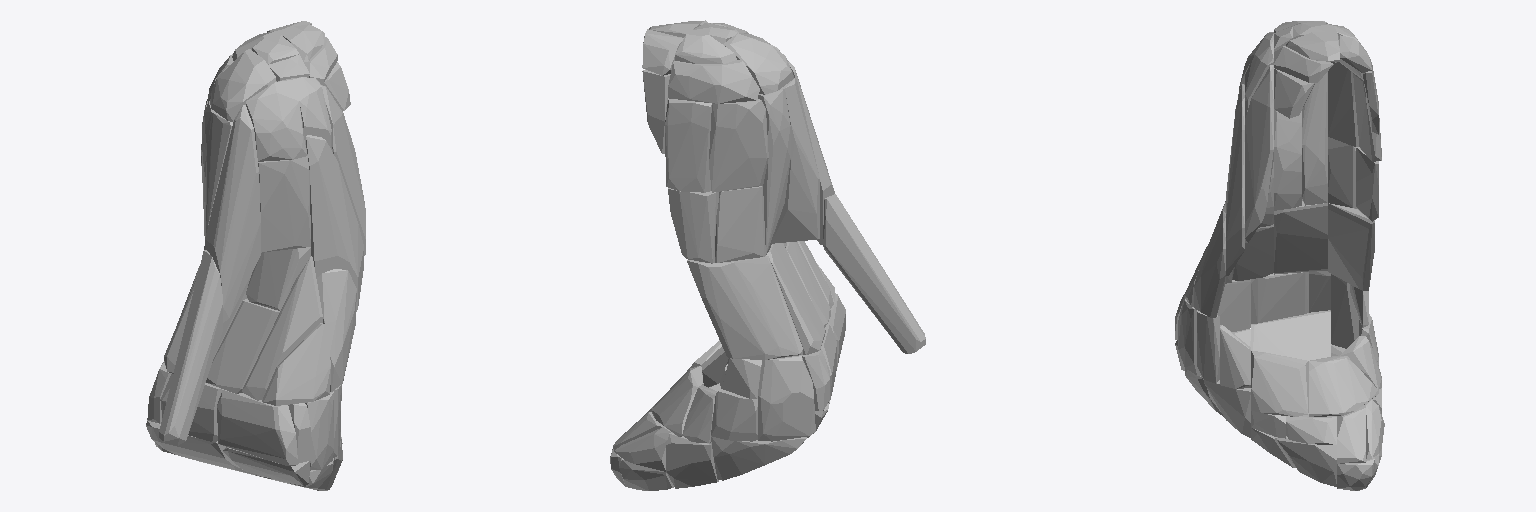
--- Render facts (derived) ---
3 views of the same robot in one strip: view 1: azimuth 30°, elevation 25°; view 2: azimuth 150°, elevation 25°; view 3: azimuth 270°, elevation 25° (orthographic).
Robot: root — 60 links, 59 joints (59 fixed); root link link_4fcd289d3e82bb08588f04a271bfa5eb_convex_piece_0; default pose: every joint at zero.
Visible links, largest first — view 1: link_4fcd289d3e82bb08588f04a271bfa5eb_convex_piece_37, link_4fcd289d3e82bb08588f04a271bfa5eb_convex_piece_0, link_4fcd289d3e82bb08588f04a271bfa5eb_convex_piece_4, link_4fcd289d3e82bb08588f04a271bfa5eb_convex_piece_57, link_4fcd289d3e82bb08588f04a271bfa5eb_convex_piece_9, link_4fcd289d3e82bb08588f04a271bfa5eb_convex_piece_17, link_4fcd289d3e82bb08588f04a271bfa5eb_convex_piece_58, link_4fcd289d3e82bb08588f04a271bfa5eb_convex_piece_18, link_4fcd289d3e82bb08588f04a271bfa5eb_convex_piece_16, link_4fcd289d3e82bb08588f04a271bfa5eb_convex_piece_3, link_4fcd289d3e82bb08588f04a271bfa5eb_convex_piece_20, link_4fcd289d3e82bb08588f04a271bfa5eb_convex_piece_50 (+16 smaller); view 2: link_4fcd289d3e82bb08588f04a271bfa5eb_convex_piece_21, link_4fcd289d3e82bb08588f04a271bfa5eb_convex_piece_0, link_4fcd289d3e82bb08588f04a271bfa5eb_convex_piece_44, link_4fcd289d3e82bb08588f04a271bfa5eb_convex_piece_30, link_4fcd289d3e82bb08588f04a271bfa5eb_convex_piece_38, link_4fcd289d3e82bb08588f04a271bfa5eb_convex_piece_45, link_4fcd289d3e82bb08588f04a271bfa5eb_convex_piece_42, link_4fcd289d3e82bb08588f04a271bfa5eb_convex_piece_46, link_4fcd289d3e82bb08588f04a271bfa5eb_convex_piece_39, link_4fcd289d3e82bb08588f04a271bfa5eb_convex_piece_43, link_4fcd289d3e82bb08588f04a271bfa5eb_convex_piece_19, link_4fcd289d3e82bb08588f04a271bfa5eb_convex_piece_15 (+19 smaller); view 3: link_4fcd289d3e82bb08588f04a271bfa5eb_convex_piece_6, link_4fcd289d3e82bb08588f04a271bfa5eb_convex_piece_19, link_4fcd289d3e82bb08588f04a271bfa5eb_convex_piece_35, link_4fcd289d3e82bb08588f04a271bfa5eb_convex_piece_21, link_4fcd289d3e82bb08588f04a271bfa5eb_convex_piece_34, link_4fcd289d3e82bb08588f04a271bfa5eb_convex_piece_14, link_4fcd289d3e82bb08588f04a271bfa5eb_convex_piece_39, link_4fcd289d3e82bb08588f04a271bfa5eb_convex_piece_4, link_4fcd289d3e82bb08588f04a271bfa5eb_convex_piece_38, link_4fcd289d3e82bb08588f04a271bfa5eb_convex_piece_28, link_4fcd289d3e82bb08588f04a271bfa5eb_convex_piece_3, link_4fcd289d3e82bb08588f04a271bfa5eb_convex_piece_44 (+25 smaller).
Link boxes in pixels (left/top/right/bottom): link_4fcd289d3e82bb08588f04a271bfa5eb_convex_piece_37: left=205, top=105, right=260, bottom=322; link_4fcd289d3e82bb08588f04a271bfa5eb_convex_piece_0: left=159, top=250, right=222, bottom=445; link_4fcd289d3e82bb08588f04a271bfa5eb_convex_piece_4: left=306, top=135, right=363, bottom=311; link_4fcd289d3e82bb08588f04a271bfa5eb_convex_piece_57: left=258, top=156, right=310, bottom=252; link_4fcd289d3e82bb08588f04a271bfa5eb_convex_piece_9: left=217, top=389, right=297, bottom=465; link_4fcd289d3e82bb08588f04a271bfa5eb_convex_piece_17: left=242, top=256, right=322, bottom=400; link_4fcd289d3e82bb08588f04a271bfa5eb_convex_piece_58: left=246, top=79, right=307, bottom=161; link_4fcd289d3e82bb08588f04a271bfa5eb_convex_piece_18: left=206, top=299, right=279, bottom=393; link_4fcd289d3e82bb08588f04a271bfa5eb_convex_piece_16: left=262, top=323, right=330, bottom=405; link_4fcd289d3e82bb08588f04a271bfa5eb_convex_piece_3: left=316, top=269, right=356, bottom=391; link_4fcd289d3e82bb08588f04a271bfa5eb_convex_piece_20: left=210, top=49, right=276, bottom=121; link_4fcd289d3e82bb08588f04a271bfa5eb_convex_piece_50: left=246, top=247, right=310, bottom=310; link_4fcd289d3e82bb08588f04a271bfa5eb_convex_piece_21: left=687, top=256, right=802, bottom=359; link_4fcd289d3e82bb08588f04a271bfa5eb_convex_piece_0: left=823, top=194, right=925, bottom=353; link_4fcd289d3e82bb08588f04a271bfa5eb_convex_piece_44: left=709, top=99, right=768, bottom=192; link_4fcd289d3e82bb08588f04a271bfa5eb_convex_piece_30: left=758, top=356, right=815, bottom=441; link_4fcd289d3e82bb08588f04a271bfa5eb_convex_piece_38: left=772, top=78, right=819, bottom=243; link_4fcd289d3e82bb08588f04a271bfa5eb_convex_piece_45: left=665, top=98, right=711, bottom=192; link_4fcd289d3e82bb08588f04a271bfa5eb_convex_piece_42: left=715, top=186, right=765, bottom=262; link_4fcd289d3e82bb08588f04a271bfa5eb_convex_piece_46: left=668, top=60, right=759, bottom=103; link_4fcd289d3e82bb08588f04a271bfa5eb_convex_piece_39: left=758, top=88, right=790, bottom=254; link_4fcd289d3e82bb08588f04a271bfa5eb_convex_piece_43: left=668, top=188, right=718, bottom=263; link_4fcd289d3e82bb08588f04a271bfa5eb_convex_piece_19: left=766, top=243, right=825, bottom=354; link_4fcd289d3e82bb08588f04a271bfa5eb_convex_piece_15: left=711, top=436, right=806, bottom=480; link_4fcd289d3e82bb08588f04a271bfa5eb_convex_piece_6: left=1245, top=65, right=1273, bottom=242; link_4fcd289d3e82bb08588f04a271bfa5eb_convex_piece_19: left=1274, top=201, right=1327, bottom=274; link_4fcd289d3e82bb08588f04a271bfa5eb_convex_piece_35: left=1251, top=351, right=1308, bottom=416; link_4fcd289d3e82bb08588f04a271bfa5eb_convex_piece_21: left=1328, top=203, right=1374, bottom=290; link_4fcd289d3e82bb08588f04a271bfa5eb_convex_piece_34: left=1309, top=356, right=1378, bottom=416; link_4fcd289d3e82bb08588f04a271bfa5eb_convex_piece_14: left=1251, top=310, right=1330, bottom=360; link_4fcd289d3e82bb08588f04a271bfa5eb_convex_piece_39: left=1302, top=72, right=1327, bottom=205; link_4fcd289d3e82bb08588f04a271bfa5eb_convex_piece_4: left=1226, top=84, right=1244, bottom=275; link_4fcd289d3e82bb08588f04a271bfa5eb_convex_piece_38: left=1274, top=109, right=1301, bottom=210; link_4fcd289d3e82bb08588f04a271bfa5eb_convex_piece_28: left=1251, top=272, right=1308, bottom=323; link_4fcd289d3e82bb08588f04a271bfa5eb_convex_piece_3: left=1194, top=211, right=1225, bottom=317; link_4fcd289d3e82bb08588f04a271bfa5eb_convex_piece_44: left=1328, top=62, right=1358, bottom=146.
Size in the robot's own frame: 0.0455 by 0.0362 by 0.0827 metres.
Meshes: 60 distinct files referenced, 59 mesh visuals loaded (59 OBJ); not drawn: 1 (reference not matched to a file when rendering).

robot.urdf — root:
<robot name="root">
  <link name="link_4fcd289d3e82bb08588f04a271bfa5eb_convex_piece_0">
    <inertial>
      <origin rpy="0 0 0" xyz="0 0 0"/>
      <mass value="-1.93E-07"/>
      <inertia ixx="-2.17E-11" ixy="-2.03E-11" ixz="-1.51E-11" iyy="-5.45E-11" iyz="-7.72E-12" izz="-5.28E-11"/>
    </inertial>
    <visual>
      <origin rpy="0 0 0" xyz="0 0 0"/>
      <geometry>
        <mesh filename="4fcd289d3e82bb08588f04a271bfa5eb_convex_piece_0.obj" scale="1.0000E+00"/>
      </geometry>
      <material name="">
        <color rgba="7.50E-01 7.50E-01 7.50E-01 1"/>
      </material>
    </visual>
    <collision>
      <origin rpy="0 0 0" xyz="0 0 0"/>
      <geometry>
        <mesh filename="4fcd289d3e82bb08588f04a271bfa5eb_convex_piece_0.obj" scale="1.0000E+00"/>
      </geometry>
    </collision>
  </link>
  <link name="link_4fcd289d3e82bb08588f04a271bfa5eb_convex_piece_1">
    <inertial>
      <origin rpy="0 0 0" xyz="0 0 0"/>
      <mass value="-4.27E-08"/>
      <inertia ixx="-5.03E-11" ixy="-9.26E-12" ixz="2.37E-11" iyy="-5.65E-11" iyz="1.71E-11" izz="-1.99E-11"/>
    </inertial>
    <visual>
      <origin rpy="0 0 0" xyz="0 0 0"/>
      <geometry>
        <mesh filename="4fcd289d3e82bb08588f04a271bfa5eb_convex_piece_1.obj" scale="1.0000E+00"/>
      </geometry>
      <material name="">
        <color rgba="7.50E-01 7.50E-01 7.50E-01 1"/>
      </material>
    </visual>
    <collision>
      <origin rpy="0 0 0" xyz="0 0 0"/>
      <geometry>
        <mesh filename="4fcd289d3e82bb08588f04a271bfa5eb_convex_piece_1.obj" scale="1.0000E+00"/>
      </geometry>
    </collision>
  </link>
  <joint name="link_4fcd289d3e82bb08588f04a271bfa5eb_convex_piece_1_joint" type="fixed">
    <origin rpy="0 0 0" xyz="0 0 0"/>
    <parent link="link_4fcd289d3e82bb08588f04a271bfa5eb_convex_piece_0"/>
    <child link="link_4fcd289d3e82bb08588f04a271bfa5eb_convex_piece_1"/>
  </joint>
  <link name="link_4fcd289d3e82bb08588f04a271bfa5eb_convex_piece_2">
    <inertial>
      <origin rpy="0 0 0" xyz="0 0 0"/>
      <mass value="-1.12E-07"/>
      <inertia ixx="-8.66E-11" ixy="-1.82E-12" ixz="-5.33E-12" iyy="-7.47E-11" iyz="-2.89E-11" izz="-1.37E-11"/>
    </inertial>
    <visual>
      <origin rpy="0 0 0" xyz="0 0 0"/>
      <geometry>
        <mesh filename="4fcd289d3e82bb08588f04a271bfa5eb_convex_piece_2.obj" scale="1.0000E+00"/>
      </geometry>
      <material name="">
        <color rgba="7.50E-01 7.50E-01 7.50E-01 1"/>
      </material>
    </visual>
    <collision>
      <origin rpy="0 0 0" xyz="0 0 0"/>
      <geometry>
        <mesh filename="4fcd289d3e82bb08588f04a271bfa5eb_convex_piece_2.obj" scale="1.0000E+00"/>
      </geometry>
    </collision>
  </link>
  <joint name="link_4fcd289d3e82bb08588f04a271bfa5eb_convex_piece_2_joint" type="fixed">
    <origin rpy="0 0 0" xyz="0 0 0"/>
    <parent link="link_4fcd289d3e82bb08588f04a271bfa5eb_convex_piece_1"/>
    <child link="link_4fcd289d3e82bb08588f04a271bfa5eb_convex_piece_2"/>
  </joint>
  <link name="link_4fcd289d3e82bb08588f04a271bfa5eb_convex_piece_3">
    <inertial>
      <origin rpy="0 0 0" xyz="0 0 0"/>
      <mass value="-9.77E-08"/>
      <inertia ixx="-1.58E-11" ixy="1.06E-11" ixz="3.59E-12" iyy="-1.31E-11" iyz="-4.67E-12" izz="-2.18E-11"/>
    </inertial>
    <visual>
      <origin rpy="0 0 0" xyz="0 0 0"/>
      <geometry>
        <mesh filename="4fcd289d3e82bb08588f04a271bfa5eb_convex_piece_3.obj" scale="1.0000E+00"/>
      </geometry>
      <material name="">
        <color rgba="7.50E-01 7.50E-01 7.50E-01 1"/>
      </material>
    </visual>
    <collision>
      <origin rpy="0 0 0" xyz="0 0 0"/>
      <geometry>
        <mesh filename="4fcd289d3e82bb08588f04a271bfa5eb_convex_piece_3.obj" scale="1.0000E+00"/>
      </geometry>
    </collision>
  </link>
  <joint name="link_4fcd289d3e82bb08588f04a271bfa5eb_convex_piece_3_joint" type="fixed">
    <origin rpy="0 0 0" xyz="0 0 0"/>
    <parent link="link_4fcd289d3e82bb08588f04a271bfa5eb_convex_piece_2"/>
    <child link="link_4fcd289d3e82bb08588f04a271bfa5eb_convex_piece_3"/>
  </joint>
  <link name="link_4fcd289d3e82bb08588f04a271bfa5eb_convex_piece_4">
    <inertial>
      <origin rpy="0 0 0" xyz="0 0 0"/>
      <mass value="-1.67E-07"/>
      <inertia ixx="-3.89E-11" ixy="1.41E-11" ixz="-2.00E-11" iyy="-5.23E-11" iyz="1.34E-11" izz="-3.19E-11"/>
    </inertial>
    <visual>
      <origin rpy="0 0 0" xyz="0 0 0"/>
      <geometry>
        <mesh filename="4fcd289d3e82bb08588f04a271bfa5eb_convex_piece_4.obj" scale="1.0000E+00"/>
      </geometry>
      <material name="">
        <color rgba="7.50E-01 7.50E-01 7.50E-01 1"/>
      </material>
    </visual>
    <collision>
      <origin rpy="0 0 0" xyz="0 0 0"/>
      <geometry>
        <mesh filename="4fcd289d3e82bb08588f04a271bfa5eb_convex_piece_4.obj" scale="1.0000E+00"/>
      </geometry>
    </collision>
  </link>
  <joint name="link_4fcd289d3e82bb08588f04a271bfa5eb_convex_piece_4_joint" type="fixed">
    <origin rpy="0 0 0" xyz="0 0 0"/>
    <parent link="link_4fcd289d3e82bb08588f04a271bfa5eb_convex_piece_3"/>
    <child link="link_4fcd289d3e82bb08588f04a271bfa5eb_convex_piece_4"/>
  </joint>
  <link name="link_4fcd289d3e82bb08588f04a271bfa5eb_convex_piece_5">
    <inertial>
      <origin rpy="0 0 0" xyz="0 0 0"/>
      <mass value="-6.45E-08"/>
      <inertia ixx="-6.37E-11" ixy="2.33E-12" ixz="-1.93E-11" iyy="-6.89E-11" iyz="7.15E-12" izz="-7.18E-12"/>
    </inertial>
    <visual>
      <origin rpy="0 0 0" xyz="0 0 0"/>
      <geometry>
        <mesh filename="4fcd289d3e82bb08588f04a271bfa5eb_convex_piece_5.obj" scale="1.0000E+00"/>
      </geometry>
      <material name="">
        <color rgba="7.50E-01 7.50E-01 7.50E-01 1"/>
      </material>
    </visual>
    <collision>
      <origin rpy="0 0 0" xyz="0 0 0"/>
      <geometry>
        <mesh filename="4fcd289d3e82bb08588f04a271bfa5eb_convex_piece_5.obj" scale="1.0000E+00"/>
      </geometry>
    </collision>
  </link>
  <joint name="link_4fcd289d3e82bb08588f04a271bfa5eb_convex_piece_5_joint" type="fixed">
    <origin rpy="0 0 0" xyz="0 0 0"/>
    <parent link="link_4fcd289d3e82bb08588f04a271bfa5eb_convex_piece_4"/>
    <child link="link_4fcd289d3e82bb08588f04a271bfa5eb_convex_piece_5"/>
  </joint>
  <link name="link_4fcd289d3e82bb08588f04a271bfa5eb_convex_piece_6">
    <inertial>
      <origin rpy="0 0 0" xyz="0 0 0"/>
      <mass value="-1.17E-07"/>
      <inertia ixx="-5.41E-11" ixy="6.42E-12" ixz="-3.58E-11" iyy="-8.14E-11" iyz="7.63E-12" izz="-3.05E-11"/>
    </inertial>
    <visual>
      <origin rpy="0 0 0" xyz="0 0 0"/>
      <geometry>
        <mesh filename="4fcd289d3e82bb08588f04a271bfa5eb_convex_piece_6.obj" scale="1.0000E+00"/>
      </geometry>
      <material name="">
        <color rgba="7.50E-01 7.50E-01 7.50E-01 1"/>
      </material>
    </visual>
    <collision>
      <origin rpy="0 0 0" xyz="0 0 0"/>
      <geometry>
        <mesh filename="4fcd289d3e82bb08588f04a271bfa5eb_convex_piece_6.obj" scale="1.0000E+00"/>
      </geometry>
    </collision>
  </link>
  <joint name="link_4fcd289d3e82bb08588f04a271bfa5eb_convex_piece_6_joint" type="fixed">
    <origin rpy="0 0 0" xyz="0 0 0"/>
    <parent link="link_4fcd289d3e82bb08588f04a271bfa5eb_convex_piece_5"/>
    <child link="link_4fcd289d3e82bb08588f04a271bfa5eb_convex_piece_6"/>
  </joint>
  <link name="link_4fcd289d3e82bb08588f04a271bfa5eb_convex_piece_7">
    <inertial>
      <origin rpy="0 0 0" xyz="0 0 0"/>
      <mass value="-2.70E-08"/>
      <inertia ixx="-3.26E-11" ixy="-5.34E-12" ixz="-1.05E-11" iyy="-3.01E-11" iyz="-1.31E-11" izz="-1.10E-11"/>
    </inertial>
    <visual>
      <origin rpy="0 0 0" xyz="0 0 0"/>
      <geometry>
        <mesh filename="4fcd289d3e82bb08588f04a271bfa5eb_convex_piece_7.obj" scale="1.0000E+00"/>
      </geometry>
      <material name="">
        <color rgba="7.50E-01 7.50E-01 7.50E-01 1"/>
      </material>
    </visual>
    <collision>
      <origin rpy="0 0 0" xyz="0 0 0"/>
      <geometry>
        <mesh filename="4fcd289d3e82bb08588f04a271bfa5eb_convex_piece_7.obj" scale="1.0000E+00"/>
      </geometry>
    </collision>
  </link>
  <joint name="link_4fcd289d3e82bb08588f04a271bfa5eb_convex_piece_7_joint" type="fixed">
    <origin rpy="0 0 0" xyz="0 0 0"/>
    <parent link="link_4fcd289d3e82bb08588f04a271bfa5eb_convex_piece_6"/>
    <child link="link_4fcd289d3e82bb08588f04a271bfa5eb_convex_piece_7"/>
  </joint>
  <link name="link_4fcd289d3e82bb08588f04a271bfa5eb_convex_piece_8">
    <inertial>
      <origin rpy="0 0 0" xyz="0 0 0"/>
      <mass value="-2.91E-08"/>
      <inertia ixx="-4.81E-11" ixy="-5.18E-12" ixz="-1.54E-11" iyy="-4.87E-11" iyz="-1.45E-11" izz="-1.05E-11"/>
    </inertial>
    <visual>
      <origin rpy="0 0 0" xyz="0 0 0"/>
      <geometry>
        <mesh filename="4fcd289d3e82bb08588f04a271bfa5eb_convex_piece_8.obj" scale="1.0000E+00"/>
      </geometry>
      <material name="">
        <color rgba="7.50E-01 7.50E-01 7.50E-01 1"/>
      </material>
    </visual>
    <collision>
      <origin rpy="0 0 0" xyz="0 0 0"/>
      <geometry>
        <mesh filename="4fcd289d3e82bb08588f04a271bfa5eb_convex_piece_8.obj" scale="1.0000E+00"/>
      </geometry>
    </collision>
  </link>
  <joint name="link_4fcd289d3e82bb08588f04a271bfa5eb_convex_piece_8_joint" type="fixed">
    <origin rpy="0 0 0" xyz="0 0 0"/>
    <parent link="link_4fcd289d3e82bb08588f04a271bfa5eb_convex_piece_7"/>
    <child link="link_4fcd289d3e82bb08588f04a271bfa5eb_convex_piece_8"/>
  </joint>
  <link name="link_4fcd289d3e82bb08588f04a271bfa5eb_convex_piece_9">
    <inertial>
      <origin rpy="0 0 0" xyz="0 0 0"/>
      <mass value="-1.57E-07"/>
      <inertia ixx="-7.19E-11" ixy="-7.43E-12" ixz="-1.37E-11" iyy="-5.59E-11" iyz="-3.07E-11" izz="-2.44E-11"/>
    </inertial>
    <visual>
      <origin rpy="0 0 0" xyz="0 0 0"/>
      <geometry>
        <mesh filename="4fcd289d3e82bb08588f04a271bfa5eb_convex_piece_9.obj" scale="1.0000E+00"/>
      </geometry>
      <material name="">
        <color rgba="7.50E-01 7.50E-01 7.50E-01 1"/>
      </material>
    </visual>
    <collision>
      <origin rpy="0 0 0" xyz="0 0 0"/>
      <geometry>
        <mesh filename="4fcd289d3e82bb08588f04a271bfa5eb_convex_piece_9.obj" scale="1.0000E+00"/>
      </geometry>
    </collision>
  </link>
  <joint name="link_4fcd289d3e82bb08588f04a271bfa5eb_convex_piece_9_joint" type="fixed">
    <origin rpy="0 0 0" xyz="0 0 0"/>
    <parent link="link_4fcd289d3e82bb08588f04a271bfa5eb_convex_piece_8"/>
    <child link="link_4fcd289d3e82bb08588f04a271bfa5eb_convex_piece_9"/>
  </joint>
  <link name="link_4fcd289d3e82bb08588f04a271bfa5eb_convex_piece_10">
    <inertial>
      <origin rpy="0 0 0" xyz="0 0 0"/>
      <mass value="-2.23E-08"/>
      <inertia ixx="-1.28E-11" ixy="-2.79E-14" ixz="-4.60E-14" iyy="-7.13E-12" iyz="-6.30E-12" izz="-5.65E-12"/>
    </inertial>
    <visual>
      <origin rpy="0 0 0" xyz="0 0 0"/>
      <geometry>
        <mesh filename="4fcd289d3e82bb08588f04a271bfa5eb_convex_piece_10.obj" scale="1.0000E+00"/>
      </geometry>
      <material name="">
        <color rgba="7.50E-01 7.50E-01 7.50E-01 1"/>
      </material>
    </visual>
    <collision>
      <origin rpy="0 0 0" xyz="0 0 0"/>
      <geometry>
        <mesh filename="4fcd289d3e82bb08588f04a271bfa5eb_convex_piece_10.obj" scale="1.0000E+00"/>
      </geometry>
    </collision>
  </link>
  <joint name="link_4fcd289d3e82bb08588f04a271bfa5eb_convex_piece_10_joint" type="fixed">
    <origin rpy="0 0 0" xyz="0 0 0"/>
    <parent link="link_4fcd289d3e82bb08588f04a271bfa5eb_convex_piece_9"/>
    <child link="link_4fcd289d3e82bb08588f04a271bfa5eb_convex_piece_10"/>
  </joint>
  <link name="link_4fcd289d3e82bb08588f04a271bfa5eb_convex_piece_11">
    <inertial>
      <origin rpy="0 0 0" xyz="0 0 0"/>
      <mass value="-1.09E-07"/>
      <inertia ixx="-1.04E-10" ixy="5.30E-12" ixz="1.57E-11" iyy="-9.52E-11" iyz="-3.11E-11" izz="-1.47E-11"/>
    </inertial>
    <visual>
      <origin rpy="0 0 0" xyz="0 0 0"/>
      <geometry>
        <mesh filename="4fcd289d3e82bb08588f04a271bfa5eb_convex_piece_11.obj" scale="1.0000E+00"/>
      </geometry>
      <material name="">
        <color rgba="7.50E-01 7.50E-01 7.50E-01 1"/>
      </material>
    </visual>
    <collision>
      <origin rpy="0 0 0" xyz="0 0 0"/>
      <geometry>
        <mesh filename="4fcd289d3e82bb08588f04a271bfa5eb_convex_piece_11.obj" scale="1.0000E+00"/>
      </geometry>
    </collision>
  </link>
  <joint name="link_4fcd289d3e82bb08588f04a271bfa5eb_convex_piece_11_joint" type="fixed">
    <origin rpy="0 0 0" xyz="0 0 0"/>
    <parent link="link_4fcd289d3e82bb08588f04a271bfa5eb_convex_piece_10"/>
    <child link="link_4fcd289d3e82bb08588f04a271bfa5eb_convex_piece_11"/>
  </joint>
  <link name="link_4fcd289d3e82bb08588f04a271bfa5eb_convex_piece_12">
    <inertial>
      <origin rpy="0 0 0" xyz="0 0 0"/>
      <mass value="-5.60E-08"/>
      <inertia ixx="-5.25E-11" ixy="4.34E-12" ixz="1.76E-11" iyy="-5.57E-11" iyz="-1.21E-11" izz="-9.61E-12"/>
    </inertial>
    <visual>
      <origin rpy="0 0 0" xyz="0 0 0"/>
      <geometry>
        <mesh filename="4fcd289d3e82bb08588f04a271bfa5eb_convex_piece_12.obj" scale="1.0000E+00"/>
      </geometry>
      <material name="">
        <color rgba="7.50E-01 7.50E-01 7.50E-01 1"/>
      </material>
    </visual>
    <collision>
      <origin rpy="0 0 0" xyz="0 0 0"/>
      <geometry>
        <mesh filename="4fcd289d3e82bb08588f04a271bfa5eb_convex_piece_12.obj" scale="1.0000E+00"/>
      </geometry>
    </collision>
  </link>
  <joint name="link_4fcd289d3e82bb08588f04a271bfa5eb_convex_piece_12_joint" type="fixed">
    <origin rpy="0 0 0" xyz="0 0 0"/>
    <parent link="link_4fcd289d3e82bb08588f04a271bfa5eb_convex_piece_11"/>
    <child link="link_4fcd289d3e82bb08588f04a271bfa5eb_convex_piece_12"/>
  </joint>
  <link name="link_4fcd289d3e82bb08588f04a271bfa5eb_convex_piece_13">
    <inertial>
      <origin rpy="0 0 0" xyz="0 0 0"/>
      <mass value="-3.61E-08"/>
      <inertia ixx="-1.89E-11" ixy="2.97E-12" ixz="8.29E-12" iyy="-2.08E-11" iyz="-5.93E-12" izz="-6.37E-12"/>
    </inertial>
    <visual>
      <origin rpy="0 0 0" xyz="0 0 0"/>
      <geometry>
        <mesh filename="4fcd289d3e82bb08588f04a271bfa5eb_convex_piece_13.obj" scale="1.0000E+00"/>
      </geometry>
      <material name="">
        <color rgba="7.50E-01 7.50E-01 7.50E-01 1"/>
      </material>
    </visual>
    <collision>
      <origin rpy="0 0 0" xyz="0 0 0"/>
      <geometry>
        <mesh filename="4fcd289d3e82bb08588f04a271bfa5eb_convex_piece_13.obj" scale="1.0000E+00"/>
      </geometry>
    </collision>
  </link>
  <joint name="link_4fcd289d3e82bb08588f04a271bfa5eb_convex_piece_13_joint" type="fixed">
    <origin rpy="0 0 0" xyz="0 0 0"/>
    <parent link="link_4fcd289d3e82bb08588f04a271bfa5eb_convex_piece_12"/>
    <child link="link_4fcd289d3e82bb08588f04a271bfa5eb_convex_piece_13"/>
  </joint>
  <link name="link_4fcd289d3e82bb08588f04a271bfa5eb_convex_piece_14">
    <inertial>
      <origin rpy="0 0 0" xyz="0 0 0"/>
      <mass value="-2.87E-07"/>
      <inertia ixx="-2.24E-10" ixy="5.26E-12" ixz="-3.91E-11" iyy="-2.30E-10" iyz="2.17E-11" izz="-1.84E-11"/>
    </inertial>
    <visual>
      <origin rpy="0 0 0" xyz="0 0 0"/>
      <geometry>
        <mesh filename="4fcd289d3e82bb08588f04a271bfa5eb_convex_piece_14.obj" scale="1.0000E+00"/>
      </geometry>
      <material name="">
        <color rgba="7.50E-01 7.50E-01 7.50E-01 1"/>
      </material>
    </visual>
    <collision>
      <origin rpy="0 0 0" xyz="0 0 0"/>
      <geometry>
        <mesh filename="4fcd289d3e82bb08588f04a271bfa5eb_convex_piece_14.obj" scale="1.0000E+00"/>
      </geometry>
    </collision>
  </link>
  <joint name="link_4fcd289d3e82bb08588f04a271bfa5eb_convex_piece_14_joint" type="fixed">
    <origin rpy="0 0 0" xyz="0 0 0"/>
    <parent link="link_4fcd289d3e82bb08588f04a271bfa5eb_convex_piece_13"/>
    <child link="link_4fcd289d3e82bb08588f04a271bfa5eb_convex_piece_14"/>
  </joint>
  <link name="link_4fcd289d3e82bb08588f04a271bfa5eb_convex_piece_15">
    <inertial>
      <origin rpy="0 0 0" xyz="0 0 0"/>
      <mass value="-1.34E-07"/>
      <inertia ixx="-1.47E-10" ixy="4.43E-12" ixz="-1.11E-11" iyy="-1.28E-10" iyz="5.11E-11" izz="-2.38E-11"/>
    </inertial>
    <visual>
      <origin rpy="0 0 0" xyz="0 0 0"/>
      <geometry>
        <mesh filename="4fcd289d3e82bb08588f04a271bfa5eb_convex_piece_15.obj" scale="1.0000E+00"/>
      </geometry>
      <material name="">
        <color rgba="7.50E-01 7.50E-01 7.50E-01 1"/>
      </material>
    </visual>
    <collision>
      <origin rpy="0 0 0" xyz="0 0 0"/>
      <geometry>
        <mesh filename="4fcd289d3e82bb08588f04a271bfa5eb_convex_piece_15.obj" scale="1.0000E+00"/>
      </geometry>
    </collision>
  </link>
  <joint name="link_4fcd289d3e82bb08588f04a271bfa5eb_convex_piece_15_joint" type="fixed">
    <origin rpy="0 0 0" xyz="0 0 0"/>
    <parent link="link_4fcd289d3e82bb08588f04a271bfa5eb_convex_piece_14"/>
    <child link="link_4fcd289d3e82bb08588f04a271bfa5eb_convex_piece_15"/>
  </joint>
  <link name="link_4fcd289d3e82bb08588f04a271bfa5eb_convex_piece_16">
    <inertial>
      <origin rpy="0 0 0" xyz="0 0 0"/>
      <mass value="-6.69E-08"/>
      <inertia ixx="-1.84E-11" ixy="2.10E-12" ixz="1.23E-12" iyy="-7.08E-12" iyz="-8.50E-12" izz="-1.30E-11"/>
    </inertial>
    <visual>
      <origin rpy="0 0 0" xyz="0 0 0"/>
      <geometry>
        <mesh filename="4fcd289d3e82bb08588f04a271bfa5eb_convex_piece_16.obj" scale="1.0000E+00"/>
      </geometry>
      <material name="">
        <color rgba="7.50E-01 7.50E-01 7.50E-01 1"/>
      </material>
    </visual>
    <collision>
      <origin rpy="0 0 0" xyz="0 0 0"/>
      <geometry>
        <mesh filename="4fcd289d3e82bb08588f04a271bfa5eb_convex_piece_16.obj" scale="1.0000E+00"/>
      </geometry>
    </collision>
  </link>
  <joint name="link_4fcd289d3e82bb08588f04a271bfa5eb_convex_piece_16_joint" type="fixed">
    <origin rpy="0 0 0" xyz="0 0 0"/>
    <parent link="link_4fcd289d3e82bb08588f04a271bfa5eb_convex_piece_15"/>
    <child link="link_4fcd289d3e82bb08588f04a271bfa5eb_convex_piece_16"/>
  </joint>
  <link name="link_4fcd289d3e82bb08588f04a271bfa5eb_convex_piece_17">
    <inertial>
      <origin rpy="0 0 0" xyz="0 0 0"/>
      <mass value="-1.06E-07"/>
      <inertia ixx="-1.49E-11" ixy="1.55E-12" ixz="-7.22E-13" iyy="-5.56E-12" iyz="-4.61E-12" izz="-1.18E-11"/>
    </inertial>
    <visual>
      <origin rpy="0 0 0" xyz="0 0 0"/>
      <geometry>
        <mesh filename="4fcd289d3e82bb08588f04a271bfa5eb_convex_piece_17.obj" scale="1.0000E+00"/>
      </geometry>
      <material name="">
        <color rgba="7.50E-01 7.50E-01 7.50E-01 1"/>
      </material>
    </visual>
    <collision>
      <origin rpy="0 0 0" xyz="0 0 0"/>
      <geometry>
        <mesh filename="4fcd289d3e82bb08588f04a271bfa5eb_convex_piece_17.obj" scale="1.0000E+00"/>
      </geometry>
    </collision>
  </link>
  <joint name="link_4fcd289d3e82bb08588f04a271bfa5eb_convex_piece_17_joint" type="fixed">
    <origin rpy="0 0 0" xyz="0 0 0"/>
    <parent link="link_4fcd289d3e82bb08588f04a271bfa5eb_convex_piece_16"/>
    <child link="link_4fcd289d3e82bb08588f04a271bfa5eb_convex_piece_17"/>
  </joint>
  <link name="link_4fcd289d3e82bb08588f04a271bfa5eb_convex_piece_18">
    <inertial>
      <origin rpy="0 0 0" xyz="0 0 0"/>
      <mass value="-1.10E-07"/>
      <inertia ixx="-8.54E-12" ixy="-1.22E-12" ixz="-2.90E-12" iyy="-7.46E-12" iyz="-3.14E-12" izz="-4.25E-12"/>
    </inertial>
    <visual>
      <origin rpy="0 0 0" xyz="0 0 0"/>
      <geometry>
        <mesh filename="4fcd289d3e82bb08588f04a271bfa5eb_convex_piece_18.obj" scale="1.0000E+00"/>
      </geometry>
      <material name="">
        <color rgba="7.50E-01 7.50E-01 7.50E-01 1"/>
      </material>
    </visual>
    <collision>
      <origin rpy="0 0 0" xyz="0 0 0"/>
      <geometry>
        <mesh filename="4fcd289d3e82bb08588f04a271bfa5eb_convex_piece_18.obj" scale="1.0000E+00"/>
      </geometry>
    </collision>
  </link>
  <joint name="link_4fcd289d3e82bb08588f04a271bfa5eb_convex_piece_18_joint" type="fixed">
    <origin rpy="0 0 0" xyz="0 0 0"/>
    <parent link="link_4fcd289d3e82bb08588f04a271bfa5eb_convex_piece_17"/>
    <child link="link_4fcd289d3e82bb08588f04a271bfa5eb_convex_piece_18"/>
  </joint>
  <link name="link_4fcd289d3e82bb08588f04a271bfa5eb_convex_piece_19">
    <inertial>
      <origin rpy="0 0 0" xyz="0 0 0"/>
      <mass value="-2.21E-07"/>
      <inertia ixx="-1.48E-11" ixy="5.02E-12" ixz="-8.17E-12" iyy="-1.77E-11" iyz="4.23E-12" izz="-1.26E-11"/>
    </inertial>
    <visual>
      <origin rpy="0 0 0" xyz="0 0 0"/>
      <geometry>
        <mesh filename="4fcd289d3e82bb08588f04a271bfa5eb_convex_piece_19.obj" scale="1.0000E+00"/>
      </geometry>
      <material name="">
        <color rgba="7.50E-01 7.50E-01 7.50E-01 1"/>
      </material>
    </visual>
    <collision>
      <origin rpy="0 0 0" xyz="0 0 0"/>
      <geometry>
        <mesh filename="4fcd289d3e82bb08588f04a271bfa5eb_convex_piece_19.obj" scale="1.0000E+00"/>
      </geometry>
    </collision>
  </link>
  <joint name="link_4fcd289d3e82bb08588f04a271bfa5eb_convex_piece_19_joint" type="fixed">
    <origin rpy="0 0 0" xyz="0 0 0"/>
    <parent link="link_4fcd289d3e82bb08588f04a271bfa5eb_convex_piece_18"/>
    <child link="link_4fcd289d3e82bb08588f04a271bfa5eb_convex_piece_19"/>
  </joint>
  <link name="link_4fcd289d3e82bb08588f04a271bfa5eb_convex_piece_20">
    <inertial>
      <origin rpy="0 0 0" xyz="0 0 0"/>
      <mass value="-1.05E-07"/>
      <inertia ixx="-1.39E-10" ixy="-1.56E-13" ixz="-1.98E-12" iyy="-1.37E-10" iyz="-1.37E-11" izz="-2.49E-12"/>
    </inertial>
    <visual>
      <origin rpy="0 0 0" xyz="0 0 0"/>
      <geometry>
        <mesh filename="4fcd289d3e82bb08588f04a271bfa5eb_convex_piece_20.obj" scale="1.0000E+00"/>
      </geometry>
      <material name="">
        <color rgba="7.50E-01 7.50E-01 7.50E-01 1"/>
      </material>
    </visual>
    <collision>
      <origin rpy="0 0 0" xyz="0 0 0"/>
      <geometry>
        <mesh filename="4fcd289d3e82bb08588f04a271bfa5eb_convex_piece_20.obj" scale="1.0000E+00"/>
      </geometry>
    </collision>
  </link>
  <joint name="link_4fcd289d3e82bb08588f04a271bfa5eb_convex_piece_20_joint" type="fixed">
    <origin rpy="0 0 0" xyz="0 0 0"/>
    <parent link="link_4fcd289d3e82bb08588f04a271bfa5eb_convex_piece_19"/>
    <child link="link_4fcd289d3e82bb08588f04a271bfa5eb_convex_piece_20"/>
  </joint>
  <link name="link_4fcd289d3e82bb08588f04a271bfa5eb_convex_piece_21">
    <inertial>
      <origin rpy="0 0 0" xyz="0 0 0"/>
      <mass value="-2.09E-07"/>
      <inertia ixx="-4.00E-11" ixy="4.19E-12" ixz="-3.88E-12" iyy="-1.18E-11" iyz="1.11E-11" izz="-3.45E-11"/>
    </inertial>
    <visual>
      <origin rpy="0 0 0" xyz="0 0 0"/>
      <geometry>
        <mesh filename="4fcd289d3e82bb08588f04a271bfa5eb_convex_piece_21.obj" scale="1.0000E+00"/>
      </geometry>
      <material name="">
        <color rgba="7.50E-01 7.50E-01 7.50E-01 1"/>
      </material>
    </visual>
    <collision>
      <origin rpy="0 0 0" xyz="0 0 0"/>
      <geometry>
        <mesh filename="4fcd289d3e82bb08588f04a271bfa5eb_convex_piece_21.obj" scale="1.0000E+00"/>
      </geometry>
    </collision>
  </link>
  <joint name="link_4fcd289d3e82bb08588f04a271bfa5eb_convex_piece_21_joint" type="fixed">
    <origin rpy="0 0 0" xyz="0 0 0"/>
    <parent link="link_4fcd289d3e82bb08588f04a271bfa5eb_convex_piece_20"/>
    <child link="link_4fcd289d3e82bb08588f04a271bfa5eb_convex_piece_21"/>
  </joint>
  <link name="link_4fcd289d3e82bb08588f04a271bfa5eb_convex_piece_22">
    <inertial>
      <origin rpy="0 0 0" xyz="0 0 0"/>
      <mass value="-1.46E-08"/>
      <inertia ixx="-1.03E-11" ixy="-1.04E-13" ixz="-7.04E-12" iyy="-1.51E-11" iyz="-1.59E-13" izz="-4.87E-12"/>
    </inertial>
    <visual>
      <origin rpy="0 0 0" xyz="0 0 0"/>
      <geometry>
        <mesh filename="4fcd289d3e82bb08588f04a271bfa5eb_convex_piece_22.obj" scale="1.0000E+00"/>
      </geometry>
      <material name="">
        <color rgba="7.50E-01 7.50E-01 7.50E-01 1"/>
      </material>
    </visual>
    <collision>
      <origin rpy="0 0 0" xyz="0 0 0"/>
      <geometry>
        <mesh filename="4fcd289d3e82bb08588f04a271bfa5eb_convex_piece_22.obj" scale="1.0000E+00"/>
      </geometry>
    </collision>
  </link>
  <joint name="link_4fcd289d3e82bb08588f04a271bfa5eb_convex_piece_22_joint" type="fixed">
    <origin rpy="0 0 0" xyz="0 0 0"/>
    <parent link="link_4fcd289d3e82bb08588f04a271bfa5eb_convex_piece_21"/>
    <child link="link_4fcd289d3e82bb08588f04a271bfa5eb_convex_piece_22"/>
  </joint>
  <link name="link_4fcd289d3e82bb08588f04a271bfa5eb_convex_piece_23">
    <inertial>
      <origin rpy="0 0 0" xyz="0 0 0"/>
      <mass value="-3.99E-08"/>
      <inertia ixx="-4.37E-11" ixy="-1.16E-12" ixz="-2.16E-11" iyy="-5.45E-11" iyz="-2.19E-12" izz="-1.11E-11"/>
    </inertial>
    <visual>
      <origin rpy="0 0 0" xyz="0 0 0"/>
      <geometry>
        <mesh filename="4fcd289d3e82bb08588f04a271bfa5eb_convex_piece_23.obj" scale="1.0000E+00"/>
      </geometry>
      <material name="">
        <color rgba="7.50E-01 7.50E-01 7.50E-01 1"/>
      </material>
    </visual>
    <collision>
      <origin rpy="0 0 0" xyz="0 0 0"/>
      <geometry>
        <mesh filename="4fcd289d3e82bb08588f04a271bfa5eb_convex_piece_23.obj" scale="1.0000E+00"/>
      </geometry>
    </collision>
  </link>
  <joint name="link_4fcd289d3e82bb08588f04a271bfa5eb_convex_piece_23_joint" type="fixed">
    <origin rpy="0 0 0" xyz="0 0 0"/>
    <parent link="link_4fcd289d3e82bb08588f04a271bfa5eb_convex_piece_22"/>
    <child link="link_4fcd289d3e82bb08588f04a271bfa5eb_convex_piece_23"/>
  </joint>
  <link name="link_4fcd289d3e82bb08588f04a271bfa5eb_convex_piece_24">
    <inertial>
      <origin rpy="0 0 0" xyz="0 0 0"/>
      <mass value="-3.49E-08"/>
      <inertia ixx="-4.98E-11" ixy="-2.10E-12" ixz="-1.98E-11" iyy="-5.73E-11" iyz="-4.90E-12" izz="-8.80E-12"/>
    </inertial>
    <visual>
      <origin rpy="0 0 0" xyz="0 0 0"/>
      <geometry>
        <mesh filename="4fcd289d3e82bb08588f04a271bfa5eb_convex_piece_24.obj" scale="1.0000E+00"/>
      </geometry>
      <material name="">
        <color rgba="7.50E-01 7.50E-01 7.50E-01 1"/>
      </material>
    </visual>
    <collision>
      <origin rpy="0 0 0" xyz="0 0 0"/>
      <geometry>
        <mesh filename="4fcd289d3e82bb08588f04a271bfa5eb_convex_piece_24.obj" scale="1.0000E+00"/>
      </geometry>
    </collision>
  </link>
  <joint name="link_4fcd289d3e82bb08588f04a271bfa5eb_convex_piece_24_joint" type="fixed">
    <origin rpy="0 0 0" xyz="0 0 0"/>
    <parent link="link_4fcd289d3e82bb08588f04a271bfa5eb_convex_piece_23"/>
    <child link="link_4fcd289d3e82bb08588f04a271bfa5eb_convex_piece_24"/>
  </joint>
  <link name="link_4fcd289d3e82bb08588f04a271bfa5eb_convex_piece_25">
    <inertial>
      <origin rpy="0 0 0" xyz="0 0 0"/>
      <mass value="-2.86E-08"/>
      <inertia ixx="-4.76E-11" ixy="-2.81E-12" ixz="-1.57E-11" iyy="-5.15E-11" iyz="-8.13E-12" izz="-7.04E-12"/>
    </inertial>
    <visual>
      <origin rpy="0 0 0" xyz="0 0 0"/>
      <geometry>
        <mesh filename="4fcd289d3e82bb08588f04a271bfa5eb_convex_piece_25.obj" scale="1.0000E+00"/>
      </geometry>
      <material name="">
        <color rgba="7.50E-01 7.50E-01 7.50E-01 1"/>
      </material>
    </visual>
    <collision>
      <origin rpy="0 0 0" xyz="0 0 0"/>
      <geometry>
        <mesh filename="4fcd289d3e82bb08588f04a271bfa5eb_convex_piece_25.obj" scale="1.0000E+00"/>
      </geometry>
    </collision>
  </link>
  <joint name="link_4fcd289d3e82bb08588f04a271bfa5eb_convex_piece_25_joint" type="fixed">
    <origin rpy="0 0 0" xyz="0 0 0"/>
    <parent link="link_4fcd289d3e82bb08588f04a271bfa5eb_convex_piece_24"/>
    <child link="link_4fcd289d3e82bb08588f04a271bfa5eb_convex_piece_25"/>
  </joint>
  <link name="link_4fcd289d3e82bb08588f04a271bfa5eb_convex_piece_26">
    <inertial>
      <origin rpy="0 0 0" xyz="0 0 0"/>
      <mass value="-7.06E-08"/>
      <inertia ixx="-4.29E-11" ixy="4.52E-12" ixz="5.88E-12" iyy="-2.85E-11" iyz="-2.03E-11" izz="-1.74E-11"/>
    </inertial>
    <visual>
      <origin rpy="0 0 0" xyz="0 0 0"/>
      <geometry>
        <mesh filename="4fcd289d3e82bb08588f04a271bfa5eb_convex_piece_26.obj" scale="1.0000E+00"/>
      </geometry>
      <material name="">
        <color rgba="7.50E-01 7.50E-01 7.50E-01 1"/>
      </material>
    </visual>
    <collision>
      <origin rpy="0 0 0" xyz="0 0 0"/>
      <geometry>
        <mesh filename="4fcd289d3e82bb08588f04a271bfa5eb_convex_piece_26.obj" scale="1.0000E+00"/>
      </geometry>
    </collision>
  </link>
  <joint name="link_4fcd289d3e82bb08588f04a271bfa5eb_convex_piece_26_joint" type="fixed">
    <origin rpy="0 0 0" xyz="0 0 0"/>
    <parent link="link_4fcd289d3e82bb08588f04a271bfa5eb_convex_piece_25"/>
    <child link="link_4fcd289d3e82bb08588f04a271bfa5eb_convex_piece_26"/>
  </joint>
  <link name="link_4fcd289d3e82bb08588f04a271bfa5eb_convex_piece_27">
    <inertial>
      <origin rpy="0 0 0" xyz="0 0 0"/>
      <mass value="-3.45E-08"/>
      <inertia ixx="-1.79E-11" ixy="3.66E-12" ixz="5.77E-12" iyy="-1.56E-11" iyz="-7.87E-12" izz="-7.72E-12"/>
    </inertial>
    <visual>
      <origin rpy="0 0 0" xyz="0 0 0"/>
      <geometry>
        <mesh filename="4fcd289d3e82bb08588f04a271bfa5eb_convex_piece_27.obj" scale="1.0000E+00"/>
      </geometry>
      <material name="">
        <color rgba="7.50E-01 7.50E-01 7.50E-01 1"/>
      </material>
    </visual>
    <collision>
      <origin rpy="0 0 0" xyz="0 0 0"/>
      <geometry>
        <mesh filename="4fcd289d3e82bb08588f04a271bfa5eb_convex_piece_27.obj" scale="1.0000E+00"/>
      </geometry>
    </collision>
  </link>
  <joint name="link_4fcd289d3e82bb08588f04a271bfa5eb_convex_piece_27_joint" type="fixed">
    <origin rpy="0 0 0" xyz="0 0 0"/>
    <parent link="link_4fcd289d3e82bb08588f04a271bfa5eb_convex_piece_26"/>
    <child link="link_4fcd289d3e82bb08588f04a271bfa5eb_convex_piece_27"/>
  </joint>
  <link name="link_4fcd289d3e82bb08588f04a271bfa5eb_convex_piece_28">
    <inertial>
      <origin rpy="0 0 0" xyz="0 0 0"/>
      <mass value="-1.15E-07"/>
      <inertia ixx="-3.68E-11" ixy="5.91E-13" ixz="-1.98E-11" iyy="-4.72E-11" iyz="2.82E-13" izz="-1.21E-11"/>
    </inertial>
    <visual>
      <origin rpy="0 0 0" xyz="0 0 0"/>
      <geometry>
        <mesh filename="4fcd289d3e82bb08588f04a271bfa5eb_convex_piece_28.obj" scale="1.0000E+00"/>
      </geometry>
      <material name="">
        <color rgba="7.50E-01 7.50E-01 7.50E-01 1"/>
      </material>
    </visual>
    <collision>
      <origin rpy="0 0 0" xyz="0 0 0"/>
      <geometry>
        <mesh filename="4fcd289d3e82bb08588f04a271bfa5eb_convex_piece_28.obj" scale="1.0000E+00"/>
      </geometry>
    </collision>
  </link>
  <joint name="link_4fcd289d3e82bb08588f04a271bfa5eb_convex_piece_28_joint" type="fixed">
    <origin rpy="0 0 0" xyz="0 0 0"/>
    <parent link="link_4fcd289d3e82bb08588f04a271bfa5eb_convex_piece_27"/>
    <child link="link_4fcd289d3e82bb08588f04a271bfa5eb_convex_piece_28"/>
  </joint>
  <link name="link_4fcd289d3e82bb08588f04a271bfa5eb_convex_piece_29">
    <inertial>
      <origin rpy="0 0 0" xyz="0 0 0"/>
      <mass value="-4.67E-08"/>
      <inertia ixx="-1.65E-11" ixy="3.87E-12" ixz="-9.72E-12" iyy="-2.10E-11" iyz="5.59E-12" izz="-8.99E-12"/>
    </inertial>
    <visual>
      <origin rpy="0 0 0" xyz="0 0 0"/>
      <geometry>
        <mesh filename="4fcd289d3e82bb08588f04a271bfa5eb_convex_piece_29.obj" scale="1.0000E+00"/>
      </geometry>
      <material name="">
        <color rgba="7.50E-01 7.50E-01 7.50E-01 1"/>
      </material>
    </visual>
    <collision>
      <origin rpy="0 0 0" xyz="0 0 0"/>
      <geometry>
        <mesh filename="4fcd289d3e82bb08588f04a271bfa5eb_convex_piece_29.obj" scale="1.0000E+00"/>
      </geometry>
    </collision>
  </link>
  <joint name="link_4fcd289d3e82bb08588f04a271bfa5eb_convex_piece_29_joint" type="fixed">
    <origin rpy="0 0 0" xyz="0 0 0"/>
    <parent link="link_4fcd289d3e82bb08588f04a271bfa5eb_convex_piece_28"/>
    <child link="link_4fcd289d3e82bb08588f04a271bfa5eb_convex_piece_29"/>
  </joint>
  <link name="link_4fcd289d3e82bb08588f04a271bfa5eb_convex_piece_30">
    <inertial>
      <origin rpy="0 0 0" xyz="0 0 0"/>
      <mass value="-1.07E-07"/>
      <inertia ixx="-6.07E-11" ixy="1.07E-11" ixz="-1.97E-11" iyy="-5.55E-11" iyz="2.50E-11" izz="-2.28E-11"/>
    </inertial>
    <visual>
      <origin rpy="0 0 0" xyz="0 0 0"/>
      <geometry>
        <mesh filename="4fcd289d3e82bb08588f04a271bfa5eb_convex_piece_30.obj" scale="1.0000E+00"/>
      </geometry>
      <material name="">
        <color rgba="7.50E-01 7.50E-01 7.50E-01 1"/>
      </material>
    </visual>
    <collision>
      <origin rpy="0 0 0" xyz="0 0 0"/>
      <geometry>
        <mesh filename="4fcd289d3e82bb08588f04a271bfa5eb_convex_piece_30.obj" scale="1.0000E+00"/>
      </geometry>
    </collision>
  </link>
  <joint name="link_4fcd289d3e82bb08588f04a271bfa5eb_convex_piece_30_joint" type="fixed">
    <origin rpy="0 0 0" xyz="0 0 0"/>
    <parent link="link_4fcd289d3e82bb08588f04a271bfa5eb_convex_piece_29"/>
    <child link="link_4fcd289d3e82bb08588f04a271bfa5eb_convex_piece_30"/>
  </joint>
  <link name="link_4fcd289d3e82bb08588f04a271bfa5eb_convex_piece_31">
    <inertial>
      <origin rpy="0 0 0" xyz="0 0 0"/>
      <mass value="-1.79E-07"/>
      <inertia ixx="-2.17E-10" ixy="-4.82E-12" ixz="3.65E-11" iyy="-2.15E-10" iyz="2.93E-11" izz="-1.62E-11"/>
    </inertial>
    <visual>
      <origin rpy="0 0 0" xyz="0 0 0"/>
      <geometry>
        <mesh filename="4fcd289d3e82bb08588f04a271bfa5eb_convex_piece_31.obj" scale="1.0000E+00"/>
      </geometry>
      <material name="">
        <color rgba="7.50E-01 7.50E-01 7.50E-01 1"/>
      </material>
    </visual>
    <collision>
      <origin rpy="0 0 0" xyz="0 0 0"/>
      <geometry>
        <mesh filename="4fcd289d3e82bb08588f04a271bfa5eb_convex_piece_31.obj" scale="1.0000E+00"/>
      </geometry>
    </collision>
  </link>
  <joint name="link_4fcd289d3e82bb08588f04a271bfa5eb_convex_piece_31_joint" type="fixed">
    <origin rpy="0 0 0" xyz="0 0 0"/>
    <parent link="link_4fcd289d3e82bb08588f04a271bfa5eb_convex_piece_30"/>
    <child link="link_4fcd289d3e82bb08588f04a271bfa5eb_convex_piece_31"/>
  </joint>
  <link name="link_4fcd289d3e82bb08588f04a271bfa5eb_convex_piece_32">
    <inertial>
      <origin rpy="0 0 0" xyz="0 0 0"/>
      <mass value="-6.19E-08"/>
      <inertia ixx="-8.38E-11" ixy="-6.38E-12" ixz="1.33E-11" iyy="-7.10E-11" iyz="3.25E-11" izz="-1.86E-11"/>
    </inertial>
    <visual>
      <origin rpy="0 0 0" xyz="0 0 0"/>
      <geometry>
        <mesh filename="4fcd289d3e82bb08588f04a271bfa5eb_convex_piece_32.obj" scale="1.0000E+00"/>
      </geometry>
      <material name="">
        <color rgba="7.50E-01 7.50E-01 7.50E-01 1"/>
      </material>
    </visual>
    <collision>
      <origin rpy="0 0 0" xyz="0 0 0"/>
      <geometry>
        <mesh filename="4fcd289d3e82bb08588f04a271bfa5eb_convex_piece_32.obj" scale="1.0000E+00"/>
      </geometry>
    </collision>
  </link>
  <joint name="link_4fcd289d3e82bb08588f04a271bfa5eb_convex_piece_32_joint" type="fixed">
    <origin rpy="0 0 0" xyz="0 0 0"/>
    <parent link="link_4fcd289d3e82bb08588f04a271bfa5eb_convex_piece_31"/>
    <child link="link_4fcd289d3e82bb08588f04a271bfa5eb_convex_piece_32"/>
  </joint>
  <link name="link_4fcd289d3e82bb08588f04a271bfa5eb_convex_piece_33">
    <inertial>
      <origin rpy="0 0 0" xyz="0 0 0"/>
      <mass value="-4.14E-08"/>
      <inertia ixx="-3.46E-11" ixy="-2.79E-12" ixz="4.81E-12" iyy="-2.66E-11" iyz="1.51E-11" izz="-9.94E-12"/>
    </inertial>
    <visual>
      <origin rpy="0 0 0" xyz="0 0 0"/>
      <geometry>
        <mesh filename="4fcd289d3e82bb08588f04a271bfa5eb_convex_piece_33.obj" scale="1.0000E+00"/>
      </geometry>
      <material name="">
        <color rgba="7.50E-01 7.50E-01 7.50E-01 1"/>
      </material>
    </visual>
    <collision>
      <origin rpy="0 0 0" xyz="0 0 0"/>
      <geometry>
        <mesh filename="4fcd289d3e82bb08588f04a271bfa5eb_convex_piece_33.obj" scale="1.0000E+00"/>
      </geometry>
    </collision>
  </link>
  <joint name="link_4fcd289d3e82bb08588f04a271bfa5eb_convex_piece_33_joint" type="fixed">
    <origin rpy="0 0 0" xyz="0 0 0"/>
    <parent link="link_4fcd289d3e82bb08588f04a271bfa5eb_convex_piece_32"/>
    <child link="link_4fcd289d3e82bb08588f04a271bfa5eb_convex_piece_33"/>
  </joint>
  <link name="link_4fcd289d3e82bb08588f04a271bfa5eb_convex_piece_34">
    <inertial>
      <origin rpy="0 0 0" xyz="0 0 0"/>
      <mass value="-9.71E-08"/>
      <inertia ixx="-7.51E-11" ixy="-1.10E-11" ixz="2.93E-11" iyy="-7.84E-11" iyz="2.52E-11" izz="-2.41E-11"/>
    </inertial>
    <visual>
      <origin rpy="0 0 0" xyz="0 0 0"/>
      <geometry>
        <mesh filename="4fcd289d3e82bb08588f04a271bfa5eb_convex_piece_34.obj" scale="1.0000E+00"/>
      </geometry>
      <material name="">
        <color rgba="7.50E-01 7.50E-01 7.50E-01 1"/>
      </material>
    </visual>
    <collision>
      <origin rpy="0 0 0" xyz="0 0 0"/>
      <geometry>
        <mesh filename="4fcd289d3e82bb08588f04a271bfa5eb_convex_piece_34.obj" scale="1.0000E+00"/>
      </geometry>
    </collision>
  </link>
  <joint name="link_4fcd289d3e82bb08588f04a271bfa5eb_convex_piece_34_joint" type="fixed">
    <origin rpy="0 0 0" xyz="0 0 0"/>
    <parent link="link_4fcd289d3e82bb08588f04a271bfa5eb_convex_piece_33"/>
    <child link="link_4fcd289d3e82bb08588f04a271bfa5eb_convex_piece_34"/>
  </joint>
  <link name="link_4fcd289d3e82bb08588f04a271bfa5eb_convex_piece_35">
    <inertial>
      <origin rpy="0 0 0" xyz="0 0 0"/>
      <mass value="-7.92E-08"/>
      <inertia ixx="-4.94E-11" ixy="-3.73E-14" ixz="2.61E-11" iyy="-6.28E-11" iyz="-5.37E-15" izz="-1.45E-11"/>
    </inertial>
    <visual>
      <origin rpy="0 0 0" xyz="0 0 0"/>
      <geometry>
        <mesh filename="4fcd289d3e82bb08588f04a271bfa5eb_convex_piece_35.obj" scale="1.0000E+00"/>
      </geometry>
      <material name="">
        <color rgba="7.50E-01 7.50E-01 7.50E-01 1"/>
      </material>
    </visual>
    <collision>
      <origin rpy="0 0 0" xyz="0 0 0"/>
      <geometry>
        <mesh filename="4fcd289d3e82bb08588f04a271bfa5eb_convex_piece_35.obj" scale="1.0000E+00"/>
      </geometry>
    </collision>
  </link>
  <joint name="link_4fcd289d3e82bb08588f04a271bfa5eb_convex_piece_35_joint" type="fixed">
    <origin rpy="0 0 0" xyz="0 0 0"/>
    <parent link="link_4fcd289d3e82bb08588f04a271bfa5eb_convex_piece_34"/>
    <child link="link_4fcd289d3e82bb08588f04a271bfa5eb_convex_piece_35"/>
  </joint>
  <link name="link_4fcd289d3e82bb08588f04a271bfa5eb_convex_piece_36">
    <inertial>
      <origin rpy="0 0 0" xyz="0 0 0"/>
      <mass value="-4.38E-08"/>
      <inertia ixx="-7.34E-11" ixy="-1.02E-11" ixz="2.49E-11" iyy="-7.30E-11" iyz="2.57E-11" izz="-2.07E-11"/>
    </inertial>
    <visual>
      <origin rpy="0 0 0" xyz="0 0 0"/>
      <geometry>
        <mesh filename="4fcd289d3e82bb08588f04a271bfa5eb_convex_piece_36.obj" scale="1.0000E+00"/>
      </geometry>
      <material name="">
        <color rgba="7.50E-01 7.50E-01 7.50E-01 1"/>
      </material>
    </visual>
    <collision>
      <origin rpy="0 0 0" xyz="0 0 0"/>
      <geometry>
        <mesh filename="4fcd289d3e82bb08588f04a271bfa5eb_convex_piece_36.obj" scale="1.0000E+00"/>
      </geometry>
    </collision>
  </link>
  <joint name="link_4fcd289d3e82bb08588f04a271bfa5eb_convex_piece_36_joint" type="fixed">
    <origin rpy="0 0 0" xyz="0 0 0"/>
    <parent link="link_4fcd289d3e82bb08588f04a271bfa5eb_convex_piece_35"/>
    <child link="link_4fcd289d3e82bb08588f04a271bfa5eb_convex_piece_36"/>
  </joint>
  <link name="link_4fcd289d3e82bb08588f04a271bfa5eb_convex_piece_37">
    <inertial>
      <origin rpy="0 0 0" xyz="0 0 0"/>
      <mass value="-2.40E-07"/>
      <inertia ixx="-7.04E-11" ixy="-4.07E-12" ixz="1.57E-11" iyy="-7.41E-11" iyz="1.14E-11" izz="-1.02E-11"/>
    </inertial>
    <visual>
      <origin rpy="0 0 0" xyz="0 0 0"/>
      <geometry>
        <mesh filename="4fcd289d3e82bb08588f04a271bfa5eb_convex_piece_37.obj" scale="1.0000E+00"/>
      </geometry>
      <material name="">
        <color rgba="7.50E-01 7.50E-01 7.50E-01 1"/>
      </material>
    </visual>
    <collision>
      <origin rpy="0 0 0" xyz="0 0 0"/>
      <geometry>
        <mesh filename="4fcd289d3e82bb08588f04a271bfa5eb_convex_piece_37.obj" scale="1.0000E+00"/>
      </geometry>
    </collision>
  </link>
  <joint name="link_4fcd289d3e82bb08588f04a271bfa5eb_convex_piece_37_joint" type="fixed">
    <origin rpy="0 0 0" xyz="0 0 0"/>
    <parent link="link_4fcd289d3e82bb08588f04a271bfa5eb_convex_piece_36"/>
    <child link="link_4fcd289d3e82bb08588f04a271bfa5eb_convex_piece_37"/>
  </joint>
  <link name="link_4fcd289d3e82bb08588f04a271bfa5eb_convex_piece_38">
    <inertial>
      <origin rpy="0 0 0" xyz="0 0 0"/>
      <mass value="-3.94E-07"/>
      <inertia ixx="-1.27E-10" ixy="1.35E-12" ixz="1.68E-11" iyy="-1.31E-10" iyz="-8.38E-12" izz="-6.38E-12"/>
    </inertial>
    <visual>
      <origin rpy="0 0 0" xyz="0 0 0"/>
      <geometry>
        <mesh filename="4fcd289d3e82bb08588f04a271bfa5eb_convex_piece_38.obj" scale="1.0000E+00"/>
      </geometry>
      <material name="">
        <color rgba="7.50E-01 7.50E-01 7.50E-01 1"/>
      </material>
    </visual>
    <collision>
      <origin rpy="0 0 0" xyz="0 0 0"/>
      <geometry>
        <mesh filename="4fcd289d3e82bb08588f04a271bfa5eb_convex_piece_38.obj" scale="1.0000E+00"/>
      </geometry>
    </collision>
  </link>
  <joint name="link_4fcd289d3e82bb08588f04a271bfa5eb_convex_piece_38_joint" type="fixed">
    <origin rpy="0 0 0" xyz="0 0 0"/>
    <parent link="link_4fcd289d3e82bb08588f04a271bfa5eb_convex_piece_37"/>
    <child link="link_4fcd289d3e82bb08588f04a271bfa5eb_convex_piece_38"/>
  </joint>
  <link name="link_4fcd289d3e82bb08588f04a271bfa5eb_convex_piece_39">
    <inertial>
      <origin rpy="0 0 0" xyz="0 0 0"/>
      <mass value="-2.05E-07"/>
      <inertia ixx="-8.39E-11" ixy="2.90E-12" ixz="9.08E-12" iyy="-7.77E-11" iyz="-2.19E-11" izz="-9.18E-12"/>
    </inertial>
    <visual>
      <origin rpy="0 0 0" xyz="0 0 0"/>
      <geometry>
        <mesh filename="4fcd289d3e82bb08588f04a271bfa5eb_convex_piece_39.obj" scale="1.0000E+00"/>
      </geometry>
      <material name="">
        <color rgba="7.50E-01 7.50E-01 7.50E-01 1"/>
      </material>
    </visual>
    <collision>
      <origin rpy="0 0 0" xyz="0 0 0"/>
      <geometry>
        <mesh filename="4fcd289d3e82bb08588f04a271bfa5eb_convex_piece_39.obj" scale="1.0000E+00"/>
      </geometry>
    </collision>
  </link>
  <joint name="link_4fcd289d3e82bb08588f04a271bfa5eb_convex_piece_39_joint" type="fixed">
    <origin rpy="0 0 0" xyz="0 0 0"/>
    <parent link="link_4fcd289d3e82bb08588f04a271bfa5eb_convex_piece_38"/>
    <child link="link_4fcd289d3e82bb08588f04a271bfa5eb_convex_piece_39"/>
  </joint>
  <link name="link_4fcd289d3e82bb08588f04a271bfa5eb_convex_piece_40">
    <inertial>
      <origin rpy="0 0 0" xyz="0 0 0"/>
      <mass value="-1.81E-08"/>
      <inertia ixx="-2.62E-11" ixy="-7.34E-14" ixz="-5.38E-12" iyy="-2.74E-11" iyz="-4.04E-13" izz="-1.16E-12"/>
    </inertial>
    <visual>
      <origin rpy="0 0 0" xyz="0 0 0"/>
      <geometry>
        <mesh filename="4fcd289d3e82bb08588f04a271bfa5eb_convex_piece_40.obj" scale="1.0000E+00"/>
      </geometry>
      <material name="">
        <color rgba="7.50E-01 7.50E-01 7.50E-01 1"/>
      </material>
    </visual>
    <collision>
      <origin rpy="0 0 0" xyz="0 0 0"/>
      <geometry>
        <mesh filename="4fcd289d3e82bb08588f04a271bfa5eb_convex_piece_40.obj" scale="1.0000E+00"/>
      </geometry>
    </collision>
  </link>
  <joint name="link_4fcd289d3e82bb08588f04a271bfa5eb_convex_piece_40_joint" type="fixed">
    <origin rpy="0 0 0" xyz="0 0 0"/>
    <parent link="link_4fcd289d3e82bb08588f04a271bfa5eb_convex_piece_39"/>
    <child link="link_4fcd289d3e82bb08588f04a271bfa5eb_convex_piece_40"/>
  </joint>
  <link name="link_4fcd289d3e82bb08588f04a271bfa5eb_convex_piece_41">
    <inertial>
      <origin rpy="0 0 0" xyz="0 0 0"/>
      <mass value="-2.64E-08"/>
      <inertia ixx="-4.27E-11" ixy="-1.03E-12" ixz="-7.87E-12" iyy="-4.35E-11" iyz="-5.58E-12" izz="-2.34E-12"/>
    </inertial>
    <visual>
      <origin rpy="0 0 0" xyz="0 0 0"/>
      <geometry>
        <mesh filename="4fcd289d3e82bb08588f04a271bfa5eb_convex_piece_41.obj" scale="1.0000E+00"/>
      </geometry>
      <material name="">
        <color rgba="7.50E-01 7.50E-01 7.50E-01 1"/>
      </material>
    </visual>
    <collision>
      <origin rpy="0 0 0" xyz="0 0 0"/>
      <geometry>
        <mesh filename="4fcd289d3e82bb08588f04a271bfa5eb_convex_piece_41.obj" scale="1.0000E+00"/>
      </geometry>
    </collision>
  </link>
  <joint name="link_4fcd289d3e82bb08588f04a271bfa5eb_convex_piece_41_joint" type="fixed">
    <origin rpy="0 0 0" xyz="0 0 0"/>
    <parent link="link_4fcd289d3e82bb08588f04a271bfa5eb_convex_piece_40"/>
    <child link="link_4fcd289d3e82bb08588f04a271bfa5eb_convex_piece_41"/>
  </joint>
  <link name="link_4fcd289d3e82bb08588f04a271bfa5eb_convex_piece_42">
    <inertial>
      <origin rpy="0 0 0" xyz="0 0 0"/>
      <mass value="-6.85E-08"/>
      <inertia ixx="-1.52E-11" ixy="2.79E-14" ixz="9.59E-14" iyy="-7.05E-12" iyz="-7.01E-12" izz="-8.42E-12"/>
    </inertial>
    <visual>
      <origin rpy="0 0 0" xyz="0 0 0"/>
      <geometry>
        <mesh filename="4fcd289d3e82bb08588f04a271bfa5eb_convex_piece_42.obj" scale="1.0000E+00"/>
      </geometry>
      <material name="">
        <color rgba="7.50E-01 7.50E-01 7.50E-01 1"/>
      </material>
    </visual>
    <collision>
      <origin rpy="0 0 0" xyz="0 0 0"/>
      <geometry>
        <mesh filename="4fcd289d3e82bb08588f04a271bfa5eb_convex_piece_42.obj" scale="1.0000E+00"/>
      </geometry>
    </collision>
  </link>
  <joint name="link_4fcd289d3e82bb08588f04a271bfa5eb_convex_piece_42_joint" type="fixed">
    <origin rpy="0 0 0" xyz="0 0 0"/>
    <parent link="link_4fcd289d3e82bb08588f04a271bfa5eb_convex_piece_41"/>
    <child link="link_4fcd289d3e82bb08588f04a271bfa5eb_convex_piece_42"/>
  </joint>
  <link name="link_4fcd289d3e82bb08588f04a271bfa5eb_convex_piece_43">
    <inertial>
      <origin rpy="0 0 0" xyz="0 0 0"/>
      <mass value="-5.61E-08"/>
      <inertia ixx="-1.98E-11" ixy="-4.76E-12" ixz="-3.22E-12" iyy="-8.40E-12" iyz="-8.83E-12" izz="-1.51E-11"/>
    </inertial>
    <visual>
      <origin rpy="0 0 0" xyz="0 0 0"/>
      <geometry>
        <mesh filename="4fcd289d3e82bb08588f04a271bfa5eb_convex_piece_43.obj" scale="1.0000E+00"/>
      </geometry>
      <material name="">
        <color rgba="7.50E-01 7.50E-01 7.50E-01 1"/>
      </material>
    </visual>
    <collision>
      <origin rpy="0 0 0" xyz="0 0 0"/>
      <geometry>
        <mesh filename="4fcd289d3e82bb08588f04a271bfa5eb_convex_piece_43.obj" scale="1.0000E+00"/>
      </geometry>
    </collision>
  </link>
  <joint name="link_4fcd289d3e82bb08588f04a271bfa5eb_convex_piece_43_joint" type="fixed">
    <origin rpy="0 0 0" xyz="0 0 0"/>
    <parent link="link_4fcd289d3e82bb08588f04a271bfa5eb_convex_piece_42"/>
    <child link="link_4fcd289d3e82bb08588f04a271bfa5eb_convex_piece_43"/>
  </joint>
  <link name="link_4fcd289d3e82bb08588f04a271bfa5eb_convex_piece_44">
    <inertial>
      <origin rpy="0 0 0" xyz="0 0 0"/>
      <mass value="-1.04E-07"/>
      <inertia ixx="-7.57E-11" ixy="-3.44E-13" ixz="-2.40E-13" iyy="-6.28E-11" iyz="-2.80E-11" izz="-1.35E-11"/>
    </inertial>
    <visual>
      <origin rpy="0 0 0" xyz="0 0 0"/>
      <geometry>
        <mesh filename="4fcd289d3e82bb08588f04a271bfa5eb_convex_piece_44.obj" scale="1.0000E+00"/>
      </geometry>
      <material name="">
        <color rgba="7.50E-01 7.50E-01 7.50E-01 1"/>
      </material>
    </visual>
    <collision>
      <origin rpy="0 0 0" xyz="0 0 0"/>
      <geometry>
        <mesh filename="4fcd289d3e82bb08588f04a271bfa5eb_convex_piece_44.obj" scale="1.0000E+00"/>
      </geometry>
    </collision>
  </link>
  <joint name="link_4fcd289d3e82bb08588f04a271bfa5eb_convex_piece_44_joint" type="fixed">
    <origin rpy="0 0 0" xyz="0 0 0"/>
    <parent link="link_4fcd289d3e82bb08588f04a271bfa5eb_convex_piece_43"/>
    <child link="link_4fcd289d3e82bb08588f04a271bfa5eb_convex_piece_44"/>
  </joint>
  <link name="link_4fcd289d3e82bb08588f04a271bfa5eb_convex_piece_45">
    <inertial>
      <origin rpy="0 0 0" xyz="0 0 0"/>
      <mass value="-8.25E-08"/>
      <inertia ixx="-6.99E-11" ixy="-8.93E-12" ixz="-1.42E-11" iyy="-5.51E-11" iyz="-3.06E-11" izz="-2.36E-11"/>
    </inertial>
    <visual>
      <origin rpy="0 0 0" xyz="0 0 0"/>
      <geometry>
        <mesh filename="4fcd289d3e82bb08588f04a271bfa5eb_convex_piece_45.obj" scale="1.0000E+00"/>
      </geometry>
      <material name="">
        <color rgba="7.50E-01 7.50E-01 7.50E-01 1"/>
      </material>
    </visual>
    <collision>
      <origin rpy="0 0 0" xyz="0 0 0"/>
      <geometry>
        <mesh filename="4fcd289d3e82bb08588f04a271bfa5eb_convex_piece_45.obj" scale="1.0000E+00"/>
      </geometry>
    </collision>
  </link>
  <joint name="link_4fcd289d3e82bb08588f04a271bfa5eb_convex_piece_45_joint" type="fixed">
    <origin rpy="0 0 0" xyz="0 0 0"/>
    <parent link="link_4fcd289d3e82bb08588f04a271bfa5eb_convex_piece_44"/>
    <child link="link_4fcd289d3e82bb08588f04a271bfa5eb_convex_piece_45"/>
  </joint>
  <link name="link_4fcd289d3e82bb08588f04a271bfa5eb_convex_piece_46">
    <inertial>
      <origin rpy="0 0 0" xyz="0 0 0"/>
      <mass value="-8.40E-08"/>
      <inertia ixx="-1.15E-10" ixy="-4.98E-12" ixz="-1.36E-11" iyy="-1.05E-10" iyz="-3.52E-11" izz="-1.49E-11"/>
    </inertial>
    <visual>
      <origin rpy="0 0 0" xyz="0 0 0"/>
      <geometry>
        <mesh filename="4fcd289d3e82bb08588f04a271bfa5eb_convex_piece_46.obj" scale="1.0000E+00"/>
      </geometry>
      <material name="">
        <color rgba="7.50E-01 7.50E-01 7.50E-01 1"/>
      </material>
    </visual>
    <collision>
      <origin rpy="0 0 0" xyz="0 0 0"/>
      <geometry>
        <mesh filename="4fcd289d3e82bb08588f04a271bfa5eb_convex_piece_46.obj" scale="1.0000E+00"/>
      </geometry>
    </collision>
  </link>
  <joint name="link_4fcd289d3e82bb08588f04a271bfa5eb_convex_piece_46_joint" type="fixed">
    <origin rpy="0 0 0" xyz="0 0 0"/>
    <parent link="link_4fcd289d3e82bb08588f04a271bfa5eb_convex_piece_45"/>
    <child link="link_4fcd289d3e82bb08588f04a271bfa5eb_convex_piece_46"/>
  </joint>
  <link name="link_4fcd289d3e82bb08588f04a271bfa5eb_convex_piece_47">
    <inertial>
      <origin rpy="0 0 0" xyz="0 0 0"/>
      <mass value="-2.38E-08"/>
      <inertia ixx="-3.96E-11" ixy="-1.85E-12" ixz="-6.91E-12" iyy="-3.83E-11" iyz="-9.83E-12" izz="-4.04E-12"/>
    </inertial>
    <visual>
      <origin rpy="0 0 0" xyz="0 0 0"/>
      <geometry>
        <mesh filename="4fcd289d3e82bb08588f04a271bfa5eb_convex_piece_47.obj" scale="1.0000E+00"/>
      </geometry>
      <material name="">
        <color rgba="7.50E-01 7.50E-01 7.50E-01 1"/>
      </material>
    </visual>
    <collision>
      <origin rpy="0 0 0" xyz="0 0 0"/>
      <geometry>
        <mesh filename="4fcd289d3e82bb08588f04a271bfa5eb_convex_piece_47.obj" scale="1.0000E+00"/>
      </geometry>
    </collision>
  </link>
  <joint name="link_4fcd289d3e82bb08588f04a271bfa5eb_convex_piece_47_joint" type="fixed">
    <origin rpy="0 0 0" xyz="0 0 0"/>
    <parent link="link_4fcd289d3e82bb08588f04a271bfa5eb_convex_piece_46"/>
    <child link="link_4fcd289d3e82bb08588f04a271bfa5eb_convex_piece_47"/>
  </joint>
  <link name="link_4fcd289d3e82bb08588f04a271bfa5eb_convex_piece_48">
    <inertial>
      <origin rpy="0 0 0" xyz="0 0 0"/>
      <mass value="-4.68E-08"/>
      <inertia ixx="-3.67E-11" ixy="1.34E-12" ixz="-2.08E-12" iyy="-2.62E-11" iyz="1.67E-11" izz="-1.12E-11"/>
    </inertial>
    <visual>
      <origin rpy="0 0 0" xyz="0 0 0"/>
      <geometry>
        <mesh filename="4fcd289d3e82bb08588f04a271bfa5eb_convex_piece_48.obj" scale="1.0000E+00"/>
      </geometry>
      <material name="">
        <color rgba="7.50E-01 7.50E-01 7.50E-01 1"/>
      </material>
    </visual>
    <collision>
      <origin rpy="0 0 0" xyz="0 0 0"/>
      <geometry>
        <mesh filename="4fcd289d3e82bb08588f04a271bfa5eb_convex_piece_48.obj" scale="1.0000E+00"/>
      </geometry>
    </collision>
  </link>
  <joint name="link_4fcd289d3e82bb08588f04a271bfa5eb_convex_piece_48_joint" type="fixed">
    <origin rpy="0 0 0" xyz="0 0 0"/>
    <parent link="link_4fcd289d3e82bb08588f04a271bfa5eb_convex_piece_47"/>
    <child link="link_4fcd289d3e82bb08588f04a271bfa5eb_convex_piece_48"/>
  </joint>
  <link name="link_4fcd289d3e82bb08588f04a271bfa5eb_convex_piece_49">
    <inertial>
      <origin rpy="0 0 0" xyz="0 0 0"/>
      <mass value="-2.70E-08"/>
      <inertia ixx="-1.26E-11" ixy="1.13E-12" ixz="-1.31E-12" iyy="-7.50E-12" iyz="6.21E-12" izz="-5.72E-12"/>
    </inertial>
    <visual>
      <origin rpy="0 0 0" xyz="0 0 0"/>
      <geometry>
        <mesh filename="4fcd289d3e82bb08588f04a271bfa5eb_convex_piece_49.obj" scale="1.0000E+00"/>
      </geometry>
      <material name="">
        <color rgba="7.50E-01 7.50E-01 7.50E-01 1"/>
      </material>
    </visual>
    <collision>
      <origin rpy="0 0 0" xyz="0 0 0"/>
      <geometry>
        <mesh filename="4fcd289d3e82bb08588f04a271bfa5eb_convex_piece_49.obj" scale="1.0000E+00"/>
      </geometry>
    </collision>
  </link>
  <joint name="link_4fcd289d3e82bb08588f04a271bfa5eb_convex_piece_49_joint" type="fixed">
    <origin rpy="0 0 0" xyz="0 0 0"/>
    <parent link="link_4fcd289d3e82bb08588f04a271bfa5eb_convex_piece_48"/>
    <child link="link_4fcd289d3e82bb08588f04a271bfa5eb_convex_piece_49"/>
  </joint>
  <link name="link_4fcd289d3e82bb08588f04a271bfa5eb_convex_piece_50">
    <inertial>
      <origin rpy="0 0 0" xyz="0 0 0"/>
      <mass value="-9.32E-08"/>
      <inertia ixx="-5.74E-12" ixy="1.52E-12" ixz="-1.76E-12" iyy="-4.51E-12" iyz="2.27E-12" izz="-3.43E-12"/>
    </inertial>
    <visual>
      <origin rpy="0 0 0" xyz="0 0 0"/>
      <geometry>
        <mesh filename="4fcd289d3e82bb08588f04a271bfa5eb_convex_piece_50.obj" scale="1.0000E+00"/>
      </geometry>
      <material name="">
        <color rgba="7.50E-01 7.50E-01 7.50E-01 1"/>
      </material>
    </visual>
    <collision>
      <origin rpy="0 0 0" xyz="0 0 0"/>
      <geometry>
        <mesh filename="4fcd289d3e82bb08588f04a271bfa5eb_convex_piece_50.obj" scale="1.0000E+00"/>
      </geometry>
    </collision>
  </link>
  <joint name="link_4fcd289d3e82bb08588f04a271bfa5eb_convex_piece_50_joint" type="fixed">
    <origin rpy="0 0 0" xyz="0 0 0"/>
    <parent link="link_4fcd289d3e82bb08588f04a271bfa5eb_convex_piece_49"/>
    <child link="link_4fcd289d3e82bb08588f04a271bfa5eb_convex_piece_50"/>
  </joint>
  <link name="link_4fcd289d3e82bb08588f04a271bfa5eb_convex_piece_51">
    <inertial>
      <origin rpy="0 0 0" xyz="0 0 0"/>
      <mass value="-1.19E-07"/>
      <inertia ixx="-1.57E-10" ixy="-4.77E-12" ixz="5.73E-11" iyy="-1.76E-10" iyz="1.31E-11" izz="-2.44E-11"/>
    </inertial>
    <visual>
      <origin rpy="0 0 0" xyz="0 0 0"/>
      <geometry>
        <mesh filename="4fcd289d3e82bb08588f04a271bfa5eb_convex_piece_51.obj" scale="1.0000E+00"/>
      </geometry>
      <material name="">
        <color rgba="7.50E-01 7.50E-01 7.50E-01 1"/>
      </material>
    </visual>
    <collision>
      <origin rpy="0 0 0" xyz="0 0 0"/>
      <geometry>
        <mesh filename="4fcd289d3e82bb08588f04a271bfa5eb_convex_piece_51.obj" scale="1.0000E+00"/>
      </geometry>
    </collision>
  </link>
  <joint name="link_4fcd289d3e82bb08588f04a271bfa5eb_convex_piece_51_joint" type="fixed">
    <origin rpy="0 0 0" xyz="0 0 0"/>
    <parent link="link_4fcd289d3e82bb08588f04a271bfa5eb_convex_piece_50"/>
    <child link="link_4fcd289d3e82bb08588f04a271bfa5eb_convex_piece_51"/>
  </joint>
  <link name="link_4fcd289d3e82bb08588f04a271bfa5eb_convex_piece_52">
    <inertial>
      <origin rpy="0 0 0" xyz="0 0 0"/>
      <mass value="-6.17E-08"/>
      <inertia ixx="-8.41E-11" ixy="-7.68E-12" ixz="4.17E-11" iyy="-1.03E-10" iyz="1.49E-11" izz="-2.46E-11"/>
    </inertial>
    <visual>
      <origin rpy="0 0 0" xyz="0 0 0"/>
      <geometry>
        <mesh filename="4fcd289d3e82bb08588f04a271bfa5eb_convex_piece_52.obj" scale="1.0000E+00"/>
      </geometry>
      <material name="">
        <color rgba="7.50E-01 7.50E-01 7.50E-01 1"/>
      </material>
    </visual>
    <collision>
      <origin rpy="0 0 0" xyz="0 0 0"/>
      <geometry>
        <mesh filename="4fcd289d3e82bb08588f04a271bfa5eb_convex_piece_52.obj" scale="1.0000E+00"/>
      </geometry>
    </collision>
  </link>
  <joint name="link_4fcd289d3e82bb08588f04a271bfa5eb_convex_piece_52_joint" type="fixed">
    <origin rpy="0 0 0" xyz="0 0 0"/>
    <parent link="link_4fcd289d3e82bb08588f04a271bfa5eb_convex_piece_51"/>
    <child link="link_4fcd289d3e82bb08588f04a271bfa5eb_convex_piece_52"/>
  </joint>
  <link name="link_4fcd289d3e82bb08588f04a271bfa5eb_convex_piece_53">
    <inertial>
      <origin rpy="0 0 0" xyz="0 0 0"/>
      <mass value="-1.92E-08"/>
      <inertia ixx="-1.83E-11" ixy="5.11E-13" ixz="8.83E-12" iyy="-2.25E-11" iyz="-1.10E-12" izz="-4.43E-12"/>
    </inertial>
    <visual>
      <origin rpy="0 0 0" xyz="0 0 0"/>
      <geometry>
        <mesh filename="4fcd289d3e82bb08588f04a271bfa5eb_convex_piece_53.obj" scale="1.0000E+00"/>
      </geometry>
      <material name="">
        <color rgba="7.50E-01 7.50E-01 7.50E-01 1"/>
      </material>
    </visual>
    <collision>
      <origin rpy="0 0 0" xyz="0 0 0"/>
      <geometry>
        <mesh filename="4fcd289d3e82bb08588f04a271bfa5eb_convex_piece_53.obj" scale="1.0000E+00"/>
      </geometry>
    </collision>
  </link>
  <joint name="link_4fcd289d3e82bb08588f04a271bfa5eb_convex_piece_53_joint" type="fixed">
    <origin rpy="0 0 0" xyz="0 0 0"/>
    <parent link="link_4fcd289d3e82bb08588f04a271bfa5eb_convex_piece_52"/>
    <child link="link_4fcd289d3e82bb08588f04a271bfa5eb_convex_piece_53"/>
  </joint>
  <link name="link_4fcd289d3e82bb08588f04a271bfa5eb_convex_piece_54">
    <inertial>
      <origin rpy="0 0 0" xyz="0 0 0"/>
      <mass value="-2.83E-08"/>
      <inertia ixx="-2.79E-11" ixy="-2.85E-12" ixz="1.55E-11" iyy="-3.57E-11" iyz="4.91E-12" izz="-9.98E-12"/>
    </inertial>
    <visual>
      <origin rpy="0 0 0" xyz="0 0 0"/>
      <geometry>
        <mesh filename="4fcd289d3e82bb08588f04a271bfa5eb_convex_piece_54.obj" scale="1.0000E+00"/>
      </geometry>
      <material name="">
        <color rgba="7.50E-01 7.50E-01 7.50E-01 1"/>
      </material>
    </visual>
    <collision>
      <origin rpy="0 0 0" xyz="0 0 0"/>
      <geometry>
        <mesh filename="4fcd289d3e82bb08588f04a271bfa5eb_convex_piece_54.obj" scale="1.0000E+00"/>
      </geometry>
    </collision>
  </link>
  <joint name="link_4fcd289d3e82bb08588f04a271bfa5eb_convex_piece_54_joint" type="fixed">
    <origin rpy="0 0 0" xyz="0 0 0"/>
    <parent link="link_4fcd289d3e82bb08588f04a271bfa5eb_convex_piece_53"/>
    <child link="link_4fcd289d3e82bb08588f04a271bfa5eb_convex_piece_54"/>
  </joint>
  <link name="link_4fcd289d3e82bb08588f04a271bfa5eb_convex_piece_55">
    <inertial>
      <origin rpy="0 0 0" xyz="0 0 0"/>
      <mass value="-2.93E-08"/>
      <inertia ixx="-4.72E-11" ixy="-7.93E-12" ixz="2.31E-11" iyy="-5.49E-11" iyz="1.45E-11" izz="-1.78E-11"/>
    </inertial>
    <visual>
      <origin rpy="0 0 0" xyz="0 0 0"/>
      <geometry>
        <mesh filename="4fcd289d3e82bb08588f04a271bfa5eb_convex_piece_55.obj" scale="1.0000E+00"/>
      </geometry>
      <material name="">
        <color rgba="7.50E-01 7.50E-01 7.50E-01 1"/>
      </material>
    </visual>
    <collision>
      <origin rpy="0 0 0" xyz="0 0 0"/>
      <geometry>
        <mesh filename="4fcd289d3e82bb08588f04a271bfa5eb_convex_piece_55.obj" scale="1.0000E+00"/>
      </geometry>
    </collision>
  </link>
  <joint name="link_4fcd289d3e82bb08588f04a271bfa5eb_convex_piece_55_joint" type="fixed">
    <origin rpy="0 0 0" xyz="0 0 0"/>
    <parent link="link_4fcd289d3e82bb08588f04a271bfa5eb_convex_piece_54"/>
    <child link="link_4fcd289d3e82bb08588f04a271bfa5eb_convex_piece_55"/>
  </joint>
  <link name="link_4fcd289d3e82bb08588f04a271bfa5eb_convex_piece_56">
    <inertial>
      <origin rpy="0 0 0" xyz="0 0 0"/>
      <mass value="-3.27E-08"/>
      <inertia ixx="-4.42E-11" ixy="-7.32E-12" ixz="1.50E-11" iyy="-4.20E-11" iyz="1.75E-11" izz="-1.51E-11"/>
    </inertial>
    <visual>
      <origin rpy="0 0 0" xyz="0 0 0"/>
      <geometry>
        <mesh filename="4fcd289d3e82bb08588f04a271bfa5eb_convex_piece_56.obj" scale="1.0000E+00"/>
      </geometry>
      <material name="">
        <color rgba="7.50E-01 7.50E-01 7.50E-01 1"/>
      </material>
    </visual>
    <collision>
      <origin rpy="0 0 0" xyz="0 0 0"/>
      <geometry>
        <mesh filename="4fcd289d3e82bb08588f04a271bfa5eb_convex_piece_56.obj" scale="1.0000E+00"/>
      </geometry>
    </collision>
  </link>
  <joint name="link_4fcd289d3e82bb08588f04a271bfa5eb_convex_piece_56_joint" type="fixed">
    <origin rpy="0 0 0" xyz="0 0 0"/>
    <parent link="link_4fcd289d3e82bb08588f04a271bfa5eb_convex_piece_55"/>
    <child link="link_4fcd289d3e82bb08588f04a271bfa5eb_convex_piece_56"/>
  </joint>
  <link name="link_4fcd289d3e82bb08588f04a271bfa5eb_convex_piece_57">
    <inertial>
      <origin rpy="0 0 0" xyz="0 0 0"/>
      <mass value="-2.23E-07"/>
      <inertia ixx="-8.46E-11" ixy="2.79E-12" ixz="-9.82E-12" iyy="-8.21E-11" iyz="1.78E-11" izz="-7.09E-12"/>
    </inertial>
    <visual>
      <origin rpy="0 0 0" xyz="0 0 0"/>
      <geometry>
        <mesh filename="4fcd289d3e82bb08588f04a271bfa5eb_convex_piece_57.obj" scale="1.0000E+00"/>
      </geometry>
      <material name="">
        <color rgba="7.50E-01 7.50E-01 7.50E-01 1"/>
      </material>
    </visual>
    <collision>
      <origin rpy="0 0 0" xyz="0 0 0"/>
      <geometry>
        <mesh filename="4fcd289d3e82bb08588f04a271bfa5eb_convex_piece_57.obj" scale="1.0000E+00"/>
      </geometry>
    </collision>
  </link>
  <joint name="link_4fcd289d3e82bb08588f04a271bfa5eb_convex_piece_57_joint" type="fixed">
    <origin rpy="0 0 0" xyz="0 0 0"/>
    <parent link="link_4fcd289d3e82bb08588f04a271bfa5eb_convex_piece_56"/>
    <child link="link_4fcd289d3e82bb08588f04a271bfa5eb_convex_piece_57"/>
  </joint>
  <link name="link_4fcd289d3e82bb08588f04a271bfa5eb_convex_piece_58">
    <inertial>
      <origin rpy="0 0 0" xyz="0 0 0"/>
      <mass value="-1.07E-07"/>
      <inertia ixx="-1.06E-10" ixy="1.12E-12" ixz="-9.27E-12" iyy="-1.06E-10" iyz="1.11E-11" izz="-2.70E-12"/>
    </inertial>
    <visual>
      <origin rpy="0 0 0" xyz="0 0 0"/>
      <geometry>
        <mesh filename="4fcd289d3e82bb08588f04a271bfa5eb_convex_piece_58.obj" scale="1.0000E+00"/>
      </geometry>
      <material name="">
        <color rgba="7.50E-01 7.50E-01 7.50E-01 1"/>
      </material>
    </visual>
    <collision>
      <origin rpy="0 0 0" xyz="0 0 0"/>
      <geometry>
        <mesh filename="4fcd289d3e82bb08588f04a271bfa5eb_convex_piece_58.obj" scale="1.0000E+00"/>
      </geometry>
    </collision>
  </link>
  <joint name="link_4fcd289d3e82bb08588f04a271bfa5eb_convex_piece_58_joint" type="fixed">
    <origin rpy="0 0 0" xyz="0 0 0"/>
    <parent link="link_4fcd289d3e82bb08588f04a271bfa5eb_convex_piece_57"/>
    <child link="link_4fcd289d3e82bb08588f04a271bfa5eb_convex_piece_58"/>
  </joint>
  <link name="link_4fcd289d3e82bb08588f04a271bfa5eb_convex_piece_59">
    <inertial>
      <origin rpy="0 0 0" xyz="0 0 0"/>
      <mass value="-3.23E-08"/>
      <inertia ixx="-5.35E-11" ixy="-5.64E-12" ixz="1.85E-11" iyy="-5.60E-11" iyz="1.50E-11" izz="-1.18E-11"/>
    </inertial>
    <visual>
      <origin rpy="0 0 0" xyz="0 0 0"/>
      <geometry>
        <mesh filename="4fcd289d3e82bb08588f04a271bfa5eb_convex_piece_59.obj" scale="1.0000E+00"/>
      </geometry>
      <material name="">
        <color rgba="7.50E-01 7.50E-01 7.50E-01 1"/>
      </material>
    </visual>
    <collision>
      <origin rpy="0 0 0" xyz="0 0 0"/>
      <geometry>
        <mesh filename="4fcd289d3e82bb08588f04a271bfa5eb_convex_piece_59.obj" scale="1.0000E+00"/>
      </geometry>
    </collision>
  </link>
  <joint name="link_4fcd289d3e82bb08588f04a271bfa5eb_convex_piece_59_joint" type="fixed">
    <origin rpy="0 0 0" xyz="0 0 0"/>
    <parent link="link_4fcd289d3e82bb08588f04a271bfa5eb_convex_piece_58"/>
    <child link="link_4fcd289d3e82bb08588f04a271bfa5eb_convex_piece_59"/>
  </joint>
</robot>
